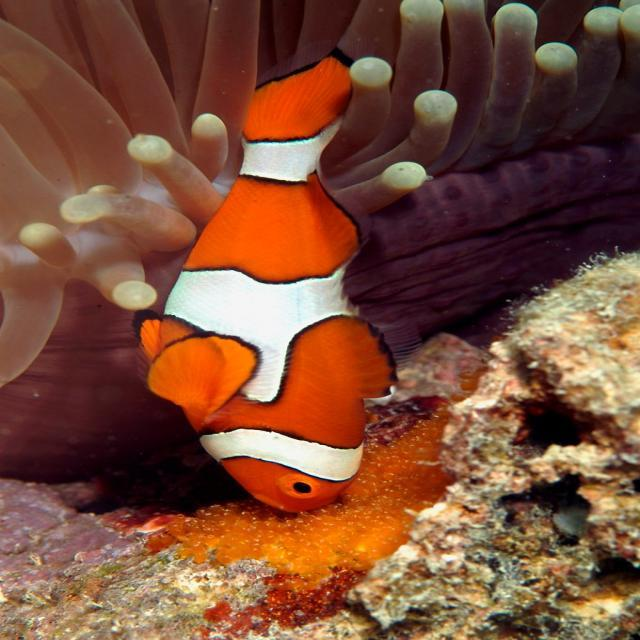ClownFish: (133, 44, 386, 517)
